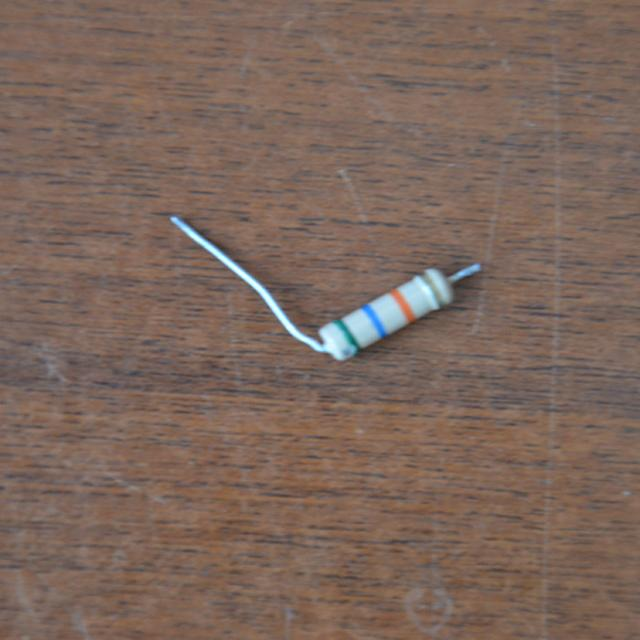blue: (362, 304, 386, 337)
gold: (419, 272, 444, 307)
green: (335, 320, 359, 352)
orange: (390, 290, 415, 322)
resistor: (304, 250, 477, 382)
